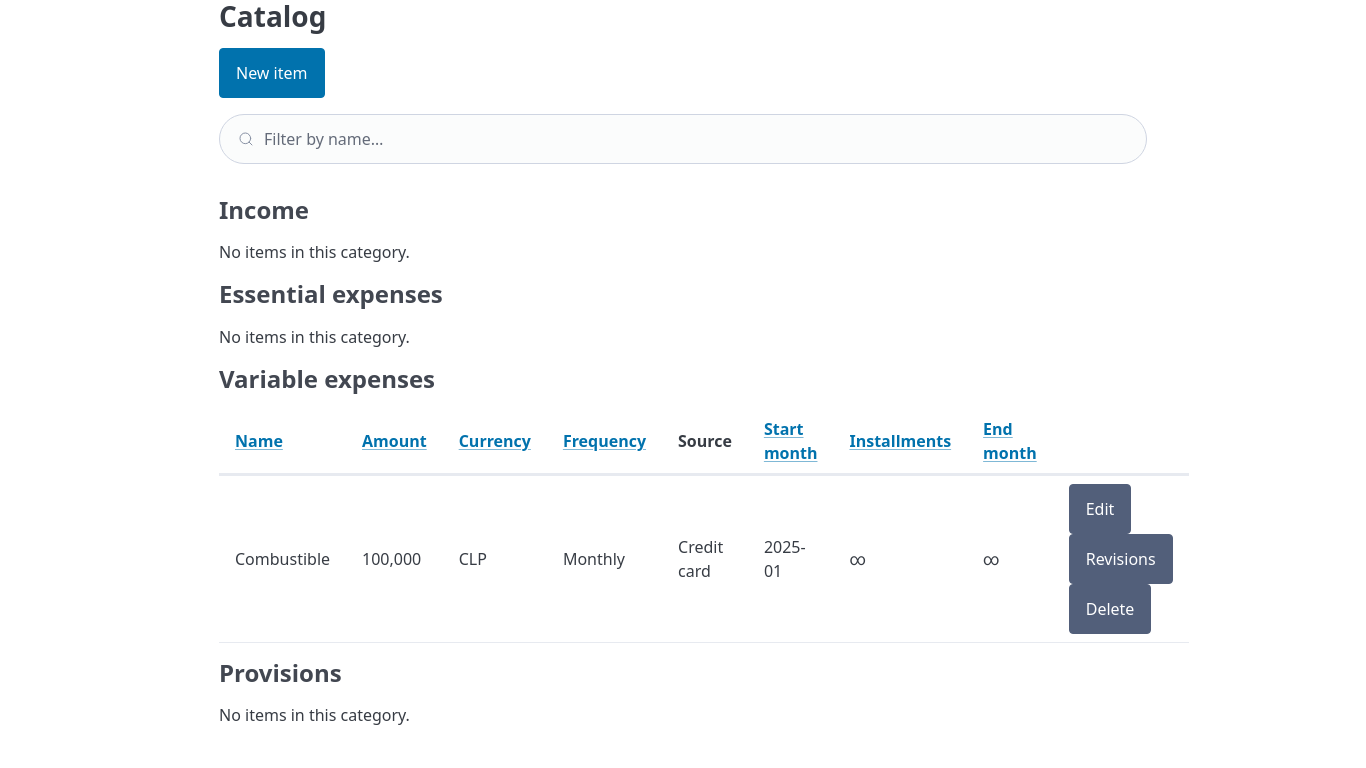
Test case: CatalogView › shows validation error and keeps dialog open when submitting empty edit form
Click the button "Edit".
click(1100, 509)  # box left=1069, top=484, right=1131, bottom=534
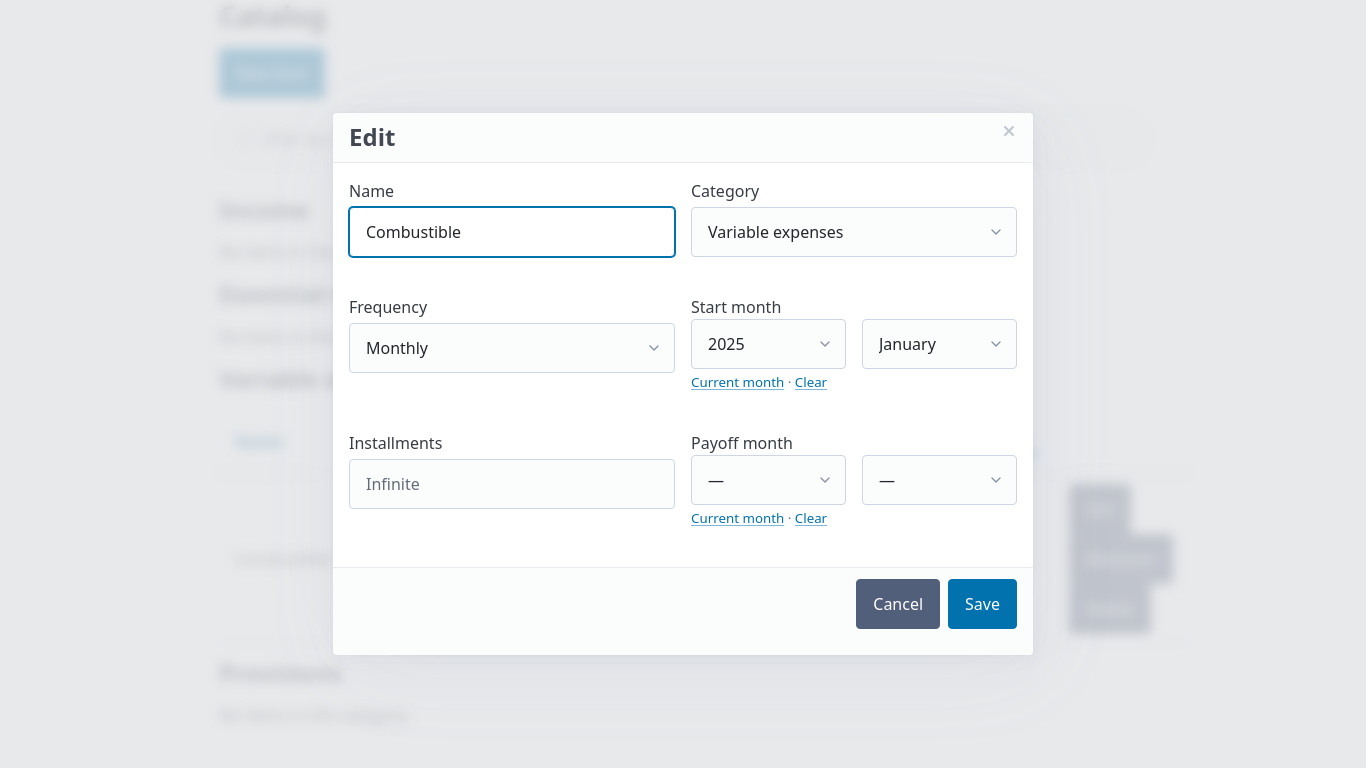
Select "—" in the dropdown labelled "Start month Current month · Clear" at (768, 344), box left=691, top=319, right=846, bottom=369
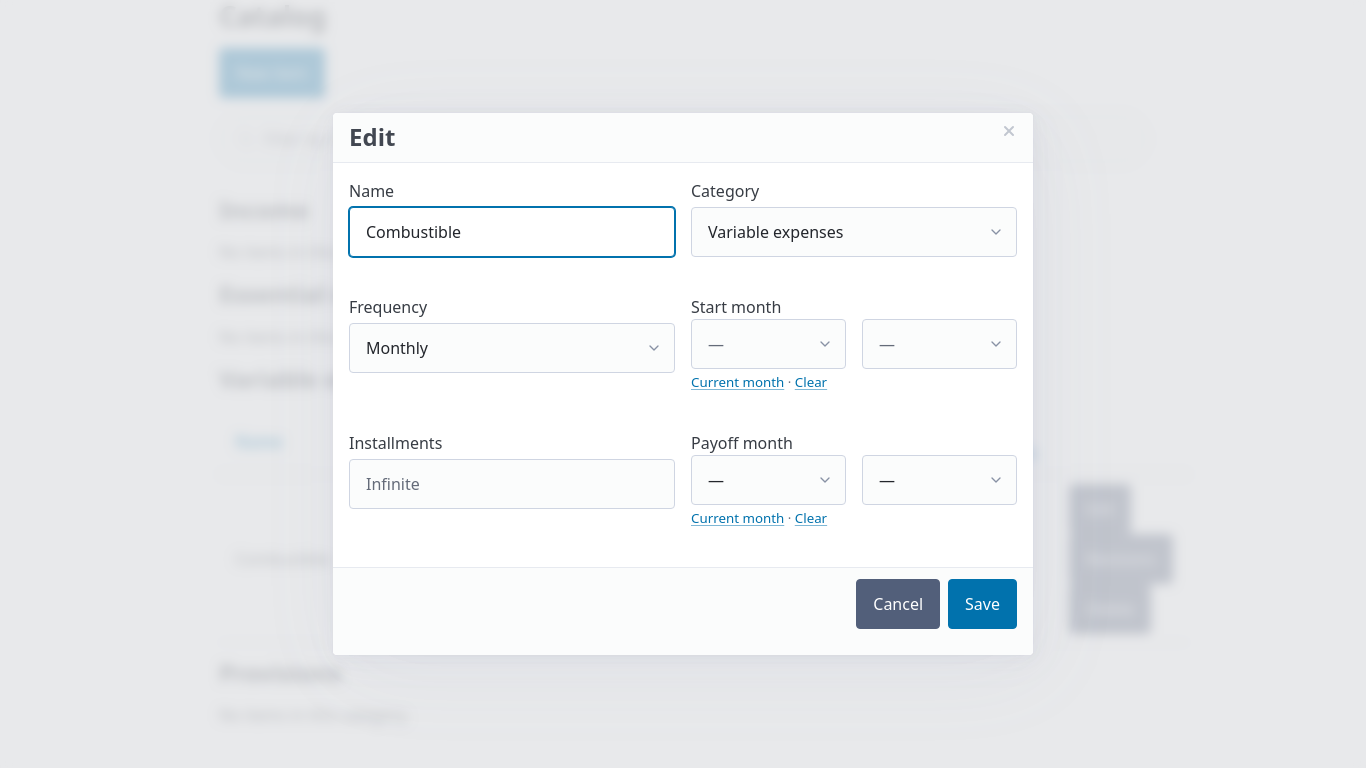
Submit the form with id "edit-item-form", box left=349, top=179, right=1017, bottom=551
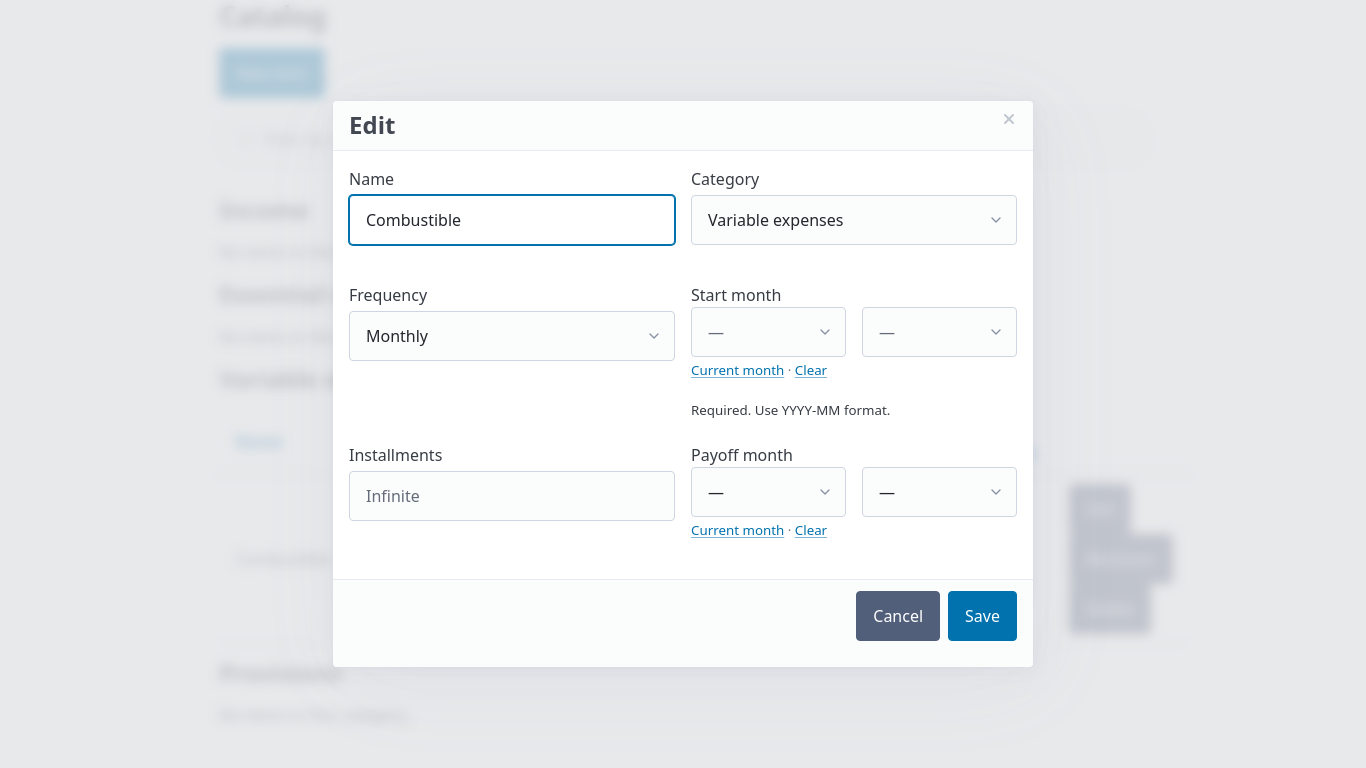
Now the text "Required. Use YYYY-MM format." is shown, box left=691, top=401, right=890, bottom=419
